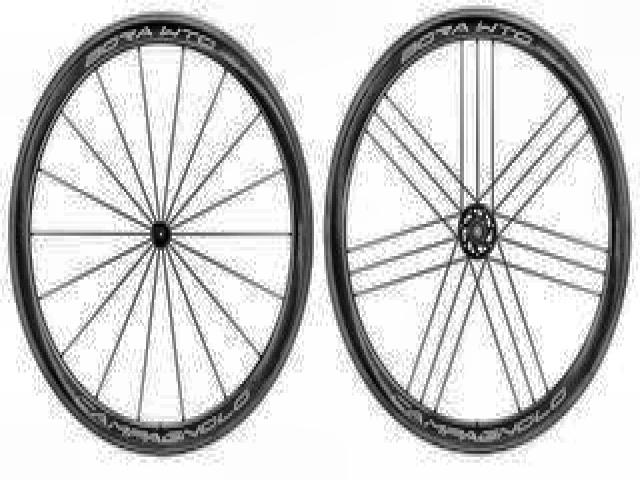wheel: (322, 3, 633, 452), (7, 10, 316, 458)
